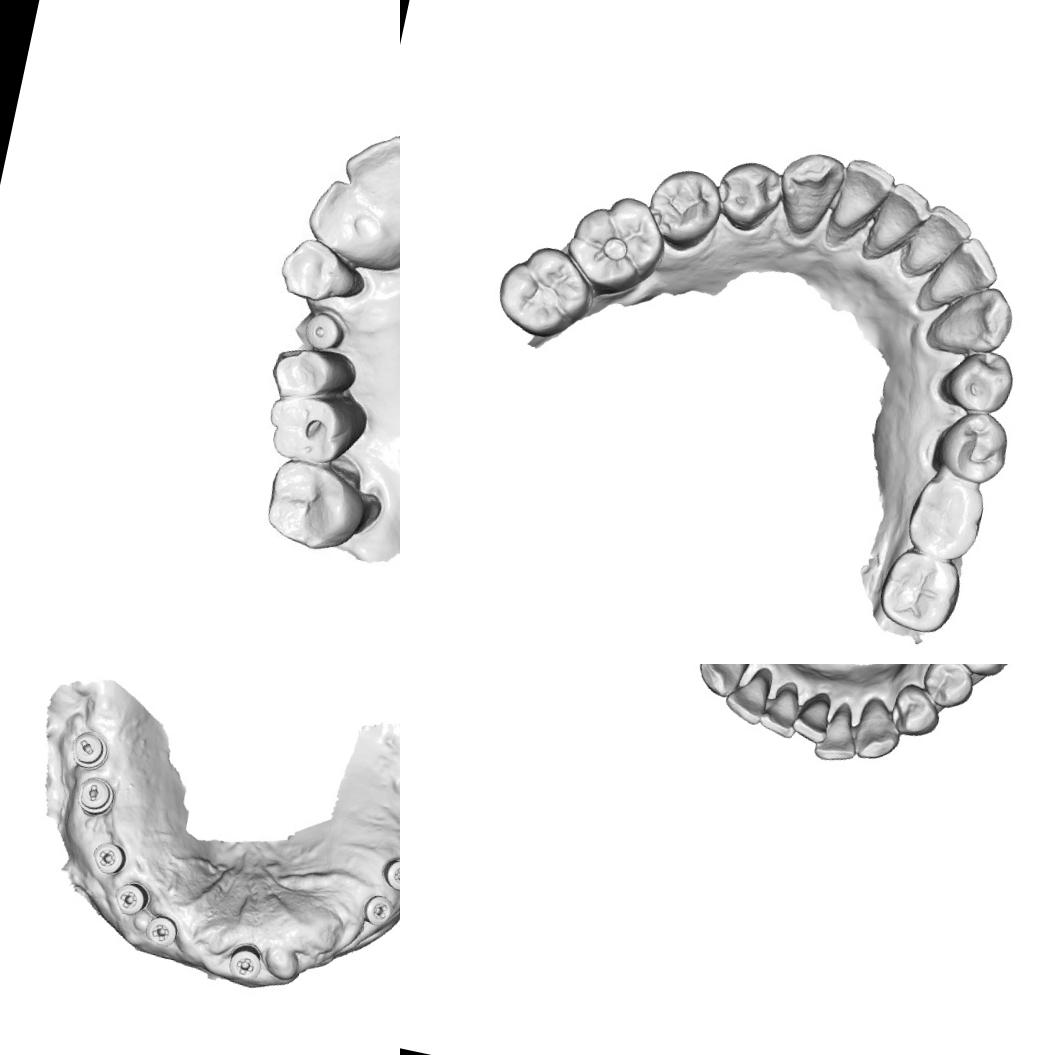canine: (923, 274, 1019, 364), (770, 146, 846, 244), (281, 240, 364, 306), (850, 696, 908, 766), (691, 664, 754, 703)
implant: (298, 305, 349, 357)
implant_minus: (73, 774, 119, 820), (68, 728, 112, 773)
implant_plus: (224, 940, 267, 985), (110, 878, 152, 920), (88, 838, 131, 878), (141, 910, 181, 950), (359, 891, 398, 930), (378, 855, 400, 895)
incisor: (304, 181, 400, 281), (330, 127, 400, 256), (902, 198, 979, 284), (928, 230, 1004, 312), (865, 177, 936, 261), (830, 154, 898, 240), (813, 696, 867, 767), (721, 664, 773, 727), (758, 679, 804, 741), (789, 688, 836, 746)
molar: (255, 456, 386, 566), (556, 185, 674, 306), (488, 236, 601, 346), (873, 543, 966, 637), (902, 468, 989, 564)
premolar: (642, 162, 727, 258), (264, 395, 366, 470), (926, 404, 1015, 488), (936, 339, 1018, 422), (712, 154, 788, 238), (262, 345, 363, 408), (888, 681, 946, 741), (917, 664, 979, 713)
